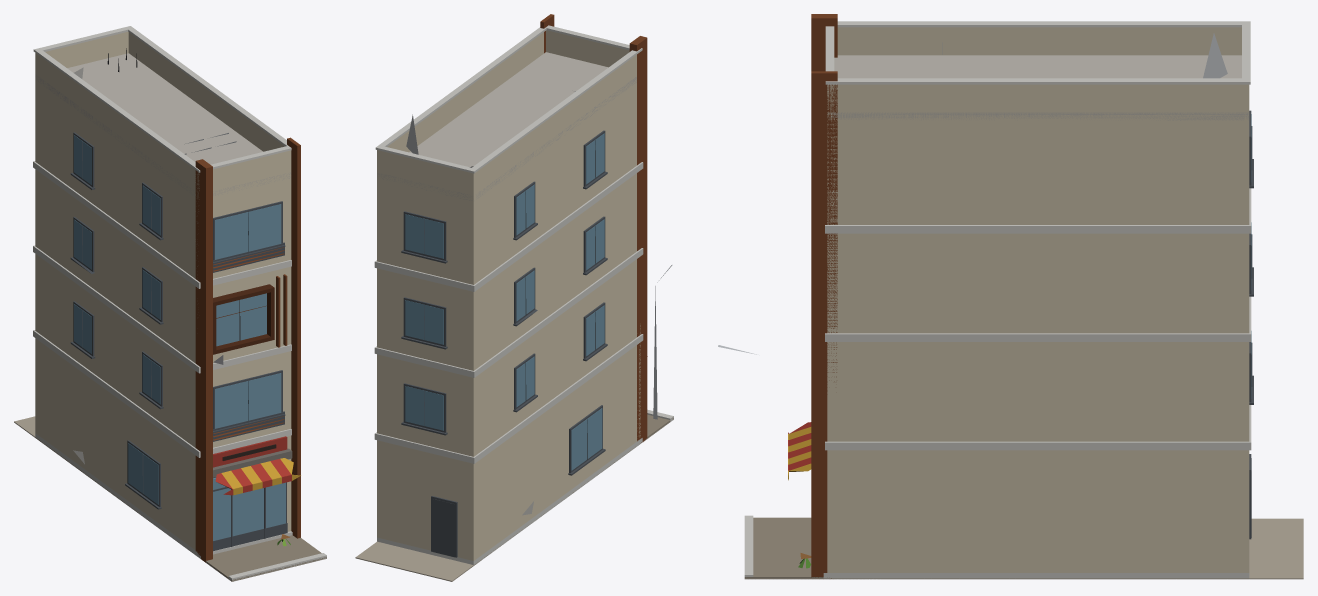
Rendered from bay2_left.glb.
3 renders of one model, left to right at view 1: azimuth 30°, elevation 25°; view 2: azimuth 150°, elevation 25°; view 3: azimuth 270°, elevation 25°, orthographic. The views are drawn at different scales.
Visible parts, largest first — view 1: body; view 2: body; view 3: body.
Boxes of the visible parts, x1,y1,x2,y2 form: body: (14, 26, 326, 581); body: (355, 14, 673, 581); body: (718, 14, 1303, 579).
Size of the model in its own units: 4.42 by 17.08 by 16.88.
